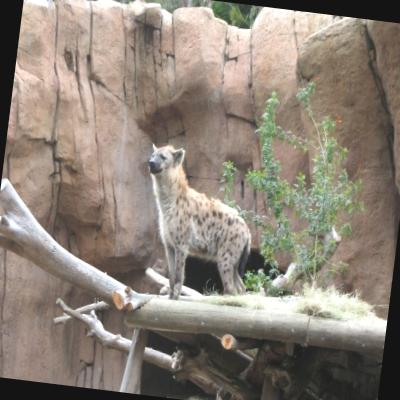hyenas: (112, 115, 264, 320)
